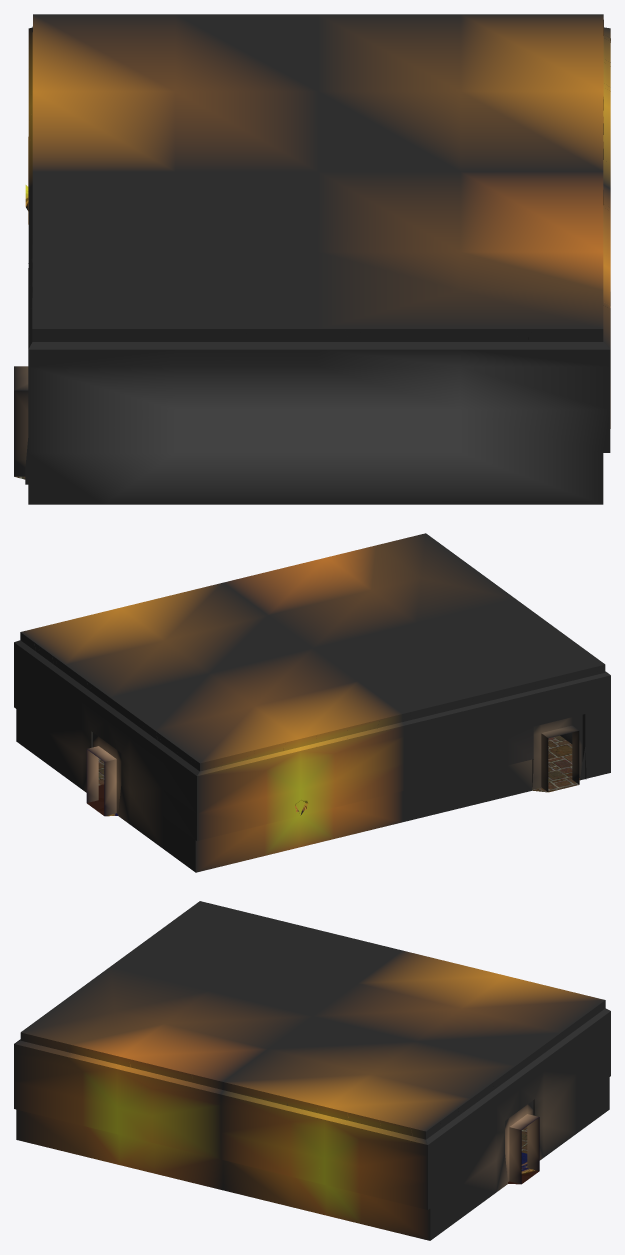
The picture shows the model from 3 angles, top to bottom: view 1: azimuth 30°, elevation 25°; view 2: azimuth 150°, elevation 25°; view 3: azimuth 270°, elevation 25°; orthographic projection. The views are drawn at different scales.
Parts seen in each view (by area): view 1: node-0014831D, node-00B89C08, node-02695EBE, node-02EA2139; view 2: node-0014831D, node-00B89C08, node-023B2B03, node-02695EBE, node-02EA2139, node-0356FA4C; view 3: node-0014831D, node-00B89C08, node-023B2B03, node-02695EBE, node-02EA2139.
Boxes of the visible parts, x1,y1,x2,y2 form: node-0014831D: [32, 14, 603, 328]; node-00B89C08: [28, 137, 610, 504]; node-02695EBE: [28, 20, 610, 349]; node-02EA2139: [14, 366, 28, 484]; node-0014831D: [21, 533, 604, 763]; node-00B89C08: [14, 642, 610, 872]; node-023B2B03: [195, 759, 532, 872]; node-02695EBE: [14, 632, 610, 775]; node-02EA2139: [86, 714, 586, 816]; node-0356FA4C: [98, 735, 579, 792]; node-0014831D: [21, 901, 604, 1131]; node-00B89C08: [14, 1011, 610, 1240]; node-023B2B03: [16, 1109, 430, 1240]; node-02695EBE: [14, 1000, 610, 1144]; node-02EA2139: [505, 1099, 539, 1184].
Bounding box in the file's own units: 930 × 200 × 998.
